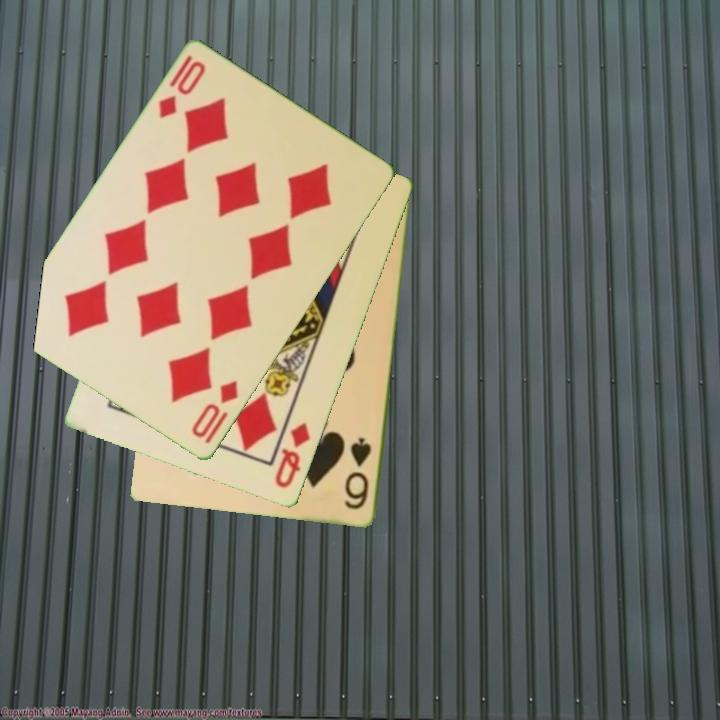10d: (188, 377, 242, 442), (155, 57, 209, 122)
6s: (341, 434, 375, 513)
Qd: (271, 419, 314, 492)
